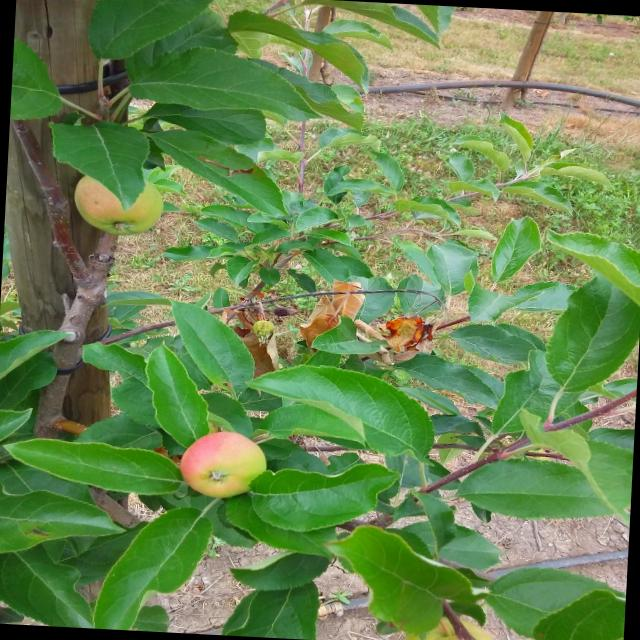-FireBlight-: (364, 318, 428, 352), (312, 289, 356, 331)
